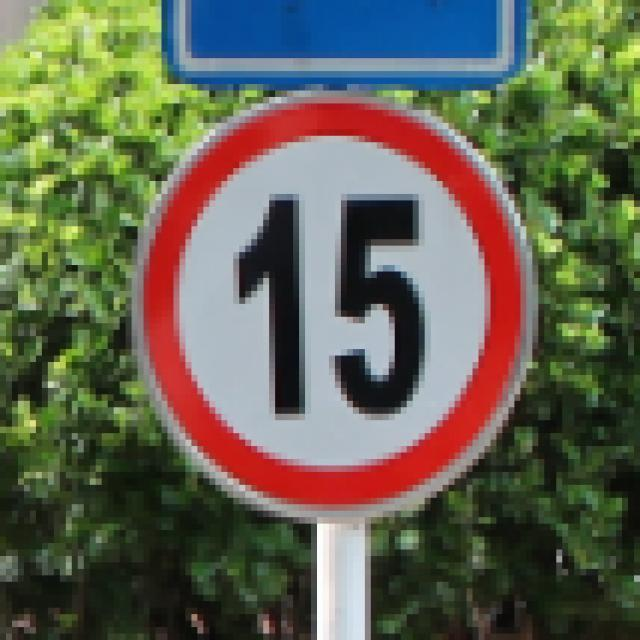Speed: (131, 83, 556, 538)
